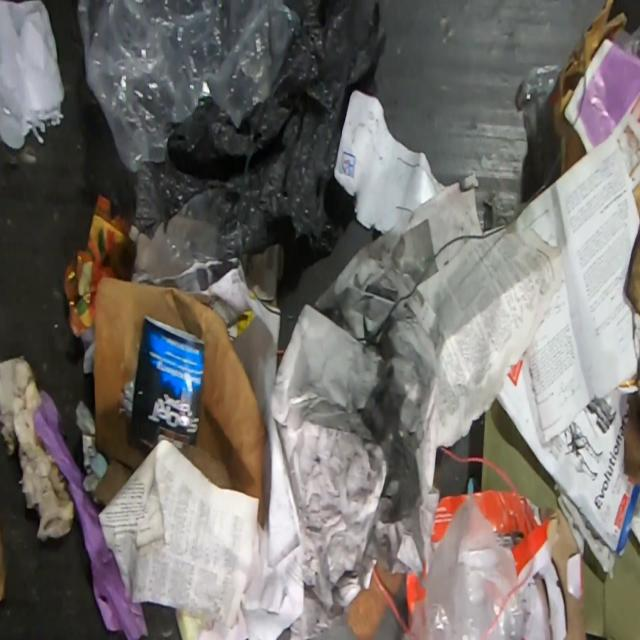cardboard: (93, 276, 264, 510), (482, 398, 640, 638), (428, 489, 588, 639), (552, 0, 630, 175), (623, 226, 639, 484), (404, 571, 422, 624)
rigid_plastic: (513, 62, 569, 185), (609, 24, 640, 85)
soft_plastic: (106, 0, 389, 264), (74, 0, 301, 174), (403, 491, 532, 639), (128, 186, 230, 284)
